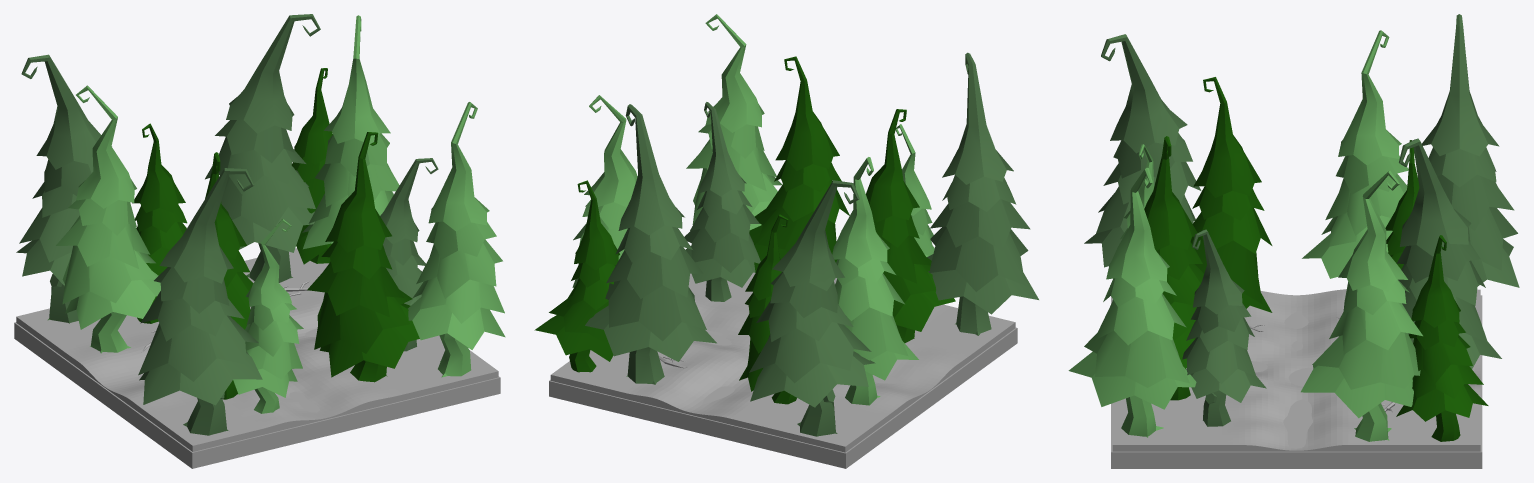
File: Foret_labyrinth04.fbx
3 renders of one model, left to right at view 1: azimuth 30°, elevation 25°; view 2: azimuth 150°, elevation 25°; view 3: azimuth 270°, elevation 25°, orthographic. The views are drawn at different scales.
Visible parts, largest first — view 1: sol40, sapin48, sapin47, sapin44, sapin39, sapin46, sol39, sapin41, sapin43, sapin49, sapin40, sapin45 (+2 smaller); view 2: sol40, sapin44, sapin41, sapin48, sapin39, sol39, sapin47, sapin45, sapin50, sapin46, sapin42, sapin43 (+2 smaller); view 3: sol40, sapin46, sapin43, sapin41, sol39, sapin39, sapin44, sapin50, sapin48, sapin45, sapin42, sapin47 (+2 smaller).
Part boxes in pixels (left/top/right/bottom): sol40: left=16, top=248, right=498, bottom=451; sapin48: left=138, top=168, right=262, bottom=435; sapin47: left=307, top=132, right=419, bottom=382; sapin44: left=205, top=14, right=320, bottom=282; sapin39: left=56, top=85, right=160, bottom=353; sapin46: left=407, top=102, right=505, bottom=377; sol39: left=14, top=322, right=500, bottom=468; sapin41: left=16, top=54, right=111, bottom=323; sapin43: left=302, top=15, right=399, bottom=249; sapin49: left=233, top=219, right=303, bottom=413; sapin40: left=132, top=123, right=187, bottom=323; sapin45: left=380, top=158, right=438, bottom=351; sol40: left=550, top=272, right=1015, bottom=452; sapin44: left=585, top=104, right=716, bottom=384; sapin41: left=749, top=180, right=875, bottom=436; sapin48: left=927, top=52, right=1038, bottom=335; sapin39: left=832, top=157, right=918, bottom=405; sol39: left=549, top=327, right=1017, bottom=468; sapin47: left=749, top=56, right=849, bottom=272; sapin45: left=684, top=102, right=760, bottom=301; sapin50: left=866, top=109, right=955, bottom=342; sapin46: left=686, top=14, right=782, bottom=230; sapin42: left=534, top=180, right=619, bottom=372; sapin43: left=572, top=95, right=637, bottom=287; sol40: left=1112, top=289, right=1480, bottom=451; sapin46: left=1068, top=167, right=1196, bottom=437; sapin43: left=1301, top=170, right=1422, bottom=441; sapin41: left=1422, top=14, right=1519, bottom=287; sol39: left=1111, top=295, right=1482, bottom=468; sapin39: left=1302, top=30, right=1408, bottom=278; sapin44: left=1397, top=138, right=1501, bottom=368; sapin50: left=1190, top=77, right=1272, bottom=312; sapin48: left=1084, top=34, right=1201, bottom=267; sapin45: left=1182, top=229, right=1266, bottom=426; sapin42: left=1396, top=235, right=1488, bottom=441; sapin47: left=1144, top=136, right=1203, bottom=400.
Size of the model in its own units: 952 by 714 by 973.
